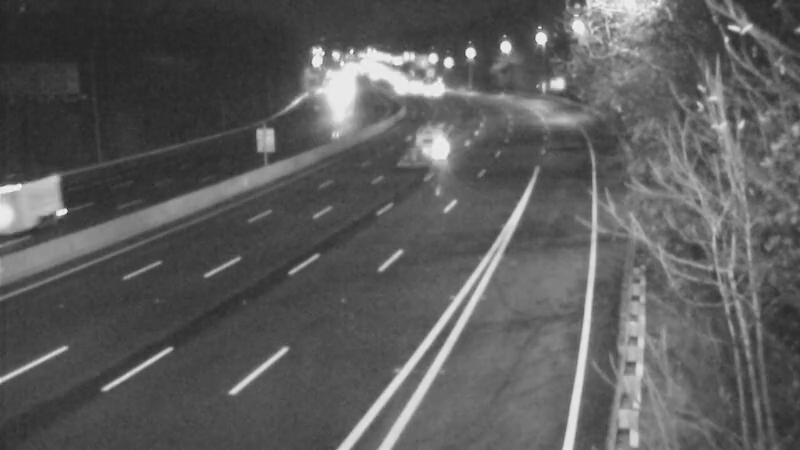vehicle: (402, 110, 452, 160)
